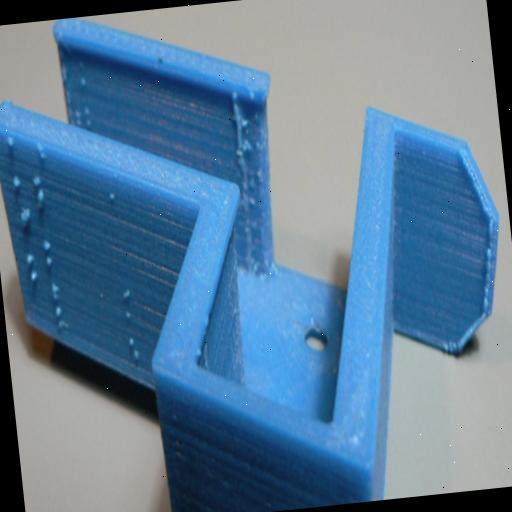blobs: (231, 96, 263, 266), (18, 202, 30, 228), (36, 142, 48, 168), (67, 106, 81, 128), (56, 318, 68, 341), (42, 231, 54, 254), (28, 268, 40, 290), (50, 278, 62, 300), (24, 246, 35, 268), (132, 347, 143, 369), (36, 190, 47, 206), (120, 286, 131, 302), (76, 70, 86, 86), (12, 174, 22, 189), (4, 133, 14, 148), (32, 174, 44, 185), (54, 304, 64, 317), (62, 63, 69, 80), (107, 191, 115, 205), (82, 104, 90, 118), (125, 312, 134, 324), (46, 258, 54, 266), (129, 338, 135, 348)
